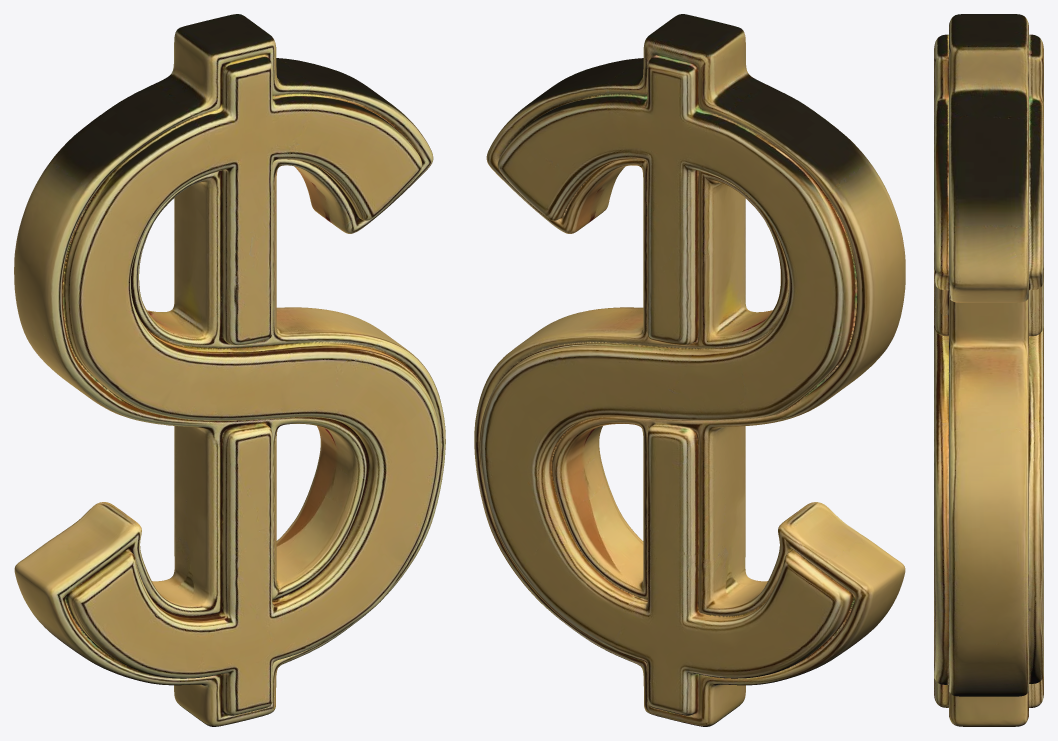
Rendered from platform-symbol.glb.
3 views of the same model, side by side, from view 1: azimuth 30°, elevation 25°; view 2: azimuth 150°, elevation 25°; view 3: azimuth 270°, elevation 25° (orthographic).
Visible parts, largest first — view 1: mesh_node; view 2: mesh_node; view 3: mesh_node.
Part boxes in pixels (x1=…): mesh_node: x1=14, y1=14, x2=445, y2=726; mesh_node: x1=474, y1=14, x2=905, y2=726; mesh_node: x1=934, y1=14, x2=1043, y2=726.
Size of the model in its own units: 1.18 by 1.9 by 0.2764.
Materials: 1 (1 with a texture image).
